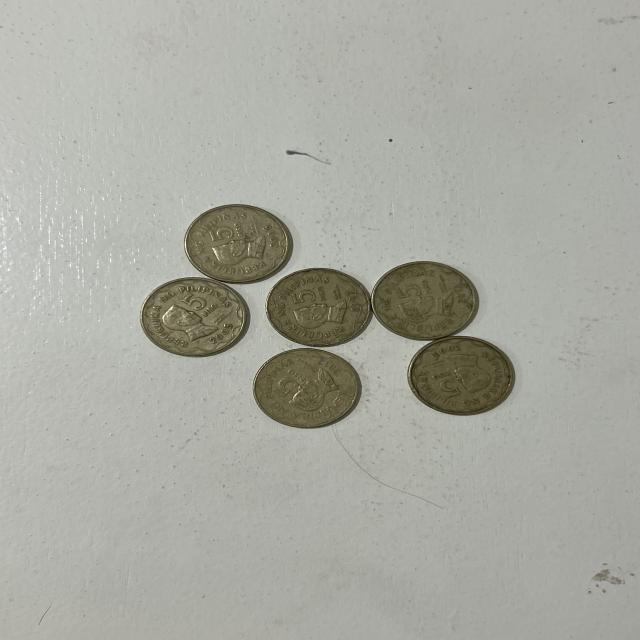5_Old_Front: (175, 290, 222, 321), (424, 368, 469, 400), (200, 221, 250, 248), (286, 281, 332, 309), (270, 367, 310, 398), (390, 279, 440, 300)
